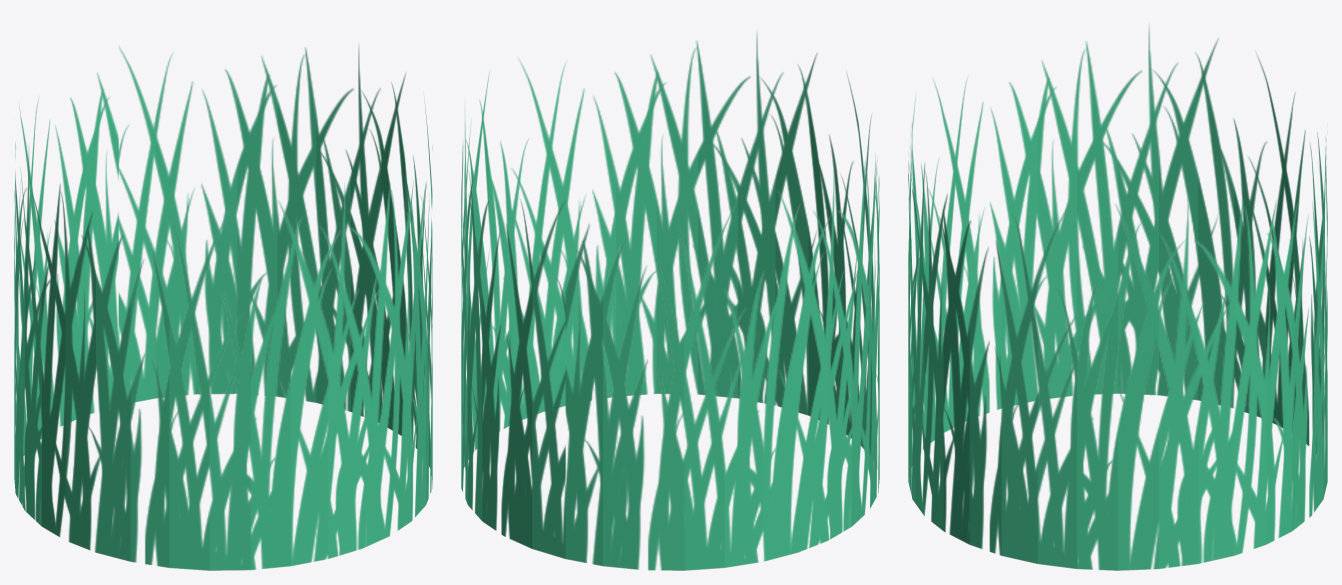
File: GrassBlock.glb
3 views of the same model, side by side, from view 1: azimuth 30°, elevation 25°; view 2: azimuth 150°, elevation 25°; view 3: azimuth 270°, elevation 25° (orthographic).
Visible parts, largest first — view 1: Grass; view 2: Grass; view 3: Grass.
Part boxes in pixels (x1=…): Grass: x1=14, y1=46, x2=432, y2=570; Grass: x1=461, y1=32, x2=879, y2=570; Grass: x1=908, y1=25, x2=1327, y2=570.
Size of the model in its own units: 2 by 2 by 2.
Materials: 1 (1 with a texture image).
